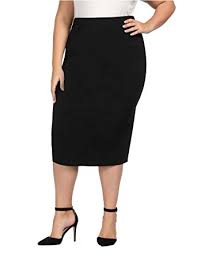F_tailored skirt: (45, 14, 159, 171)
